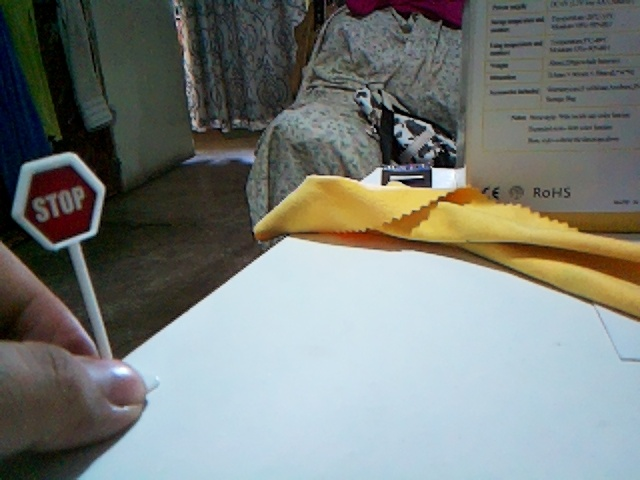stop_sign: (11, 152, 105, 250)
